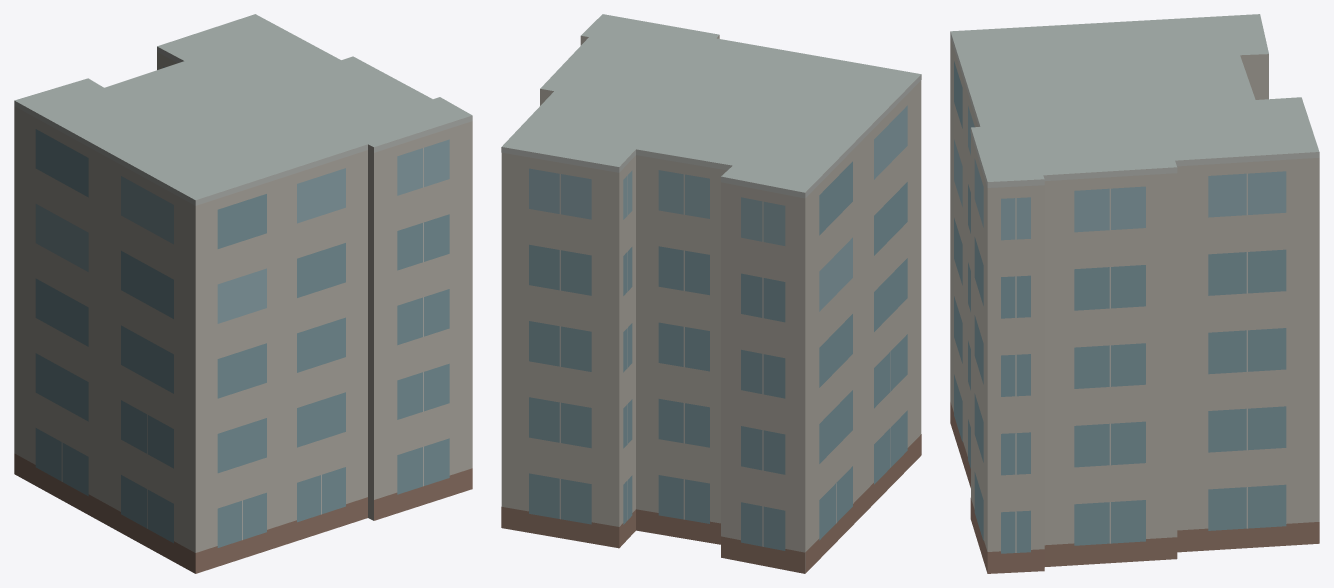
Rendered from survey-upis-32528014.glb.
3 renders of one model, left to right at view 1: azimuth 30°, elevation 25°; view 2: azimuth 150°, elevation 25°; view 3: azimuth 270°, elevation 25°, orthographic. The views are drawn at different scales.
Parts seen in each view (by area): view 1: survey-upis-32528014.tmp; view 2: survey-upis-32528014.tmp; view 3: survey-upis-32528014.tmp.
Part boxes in pixels (bbox=[...]): survey-upis-32528014.tmp: bbox=[14, 14, 472, 573]; survey-upis-32528014.tmp: bbox=[501, 14, 921, 573]; survey-upis-32528014.tmp: bbox=[950, 14, 1319, 573].
Bounding box in the file's own units: 14.91 × 16.2 × 13.84.
